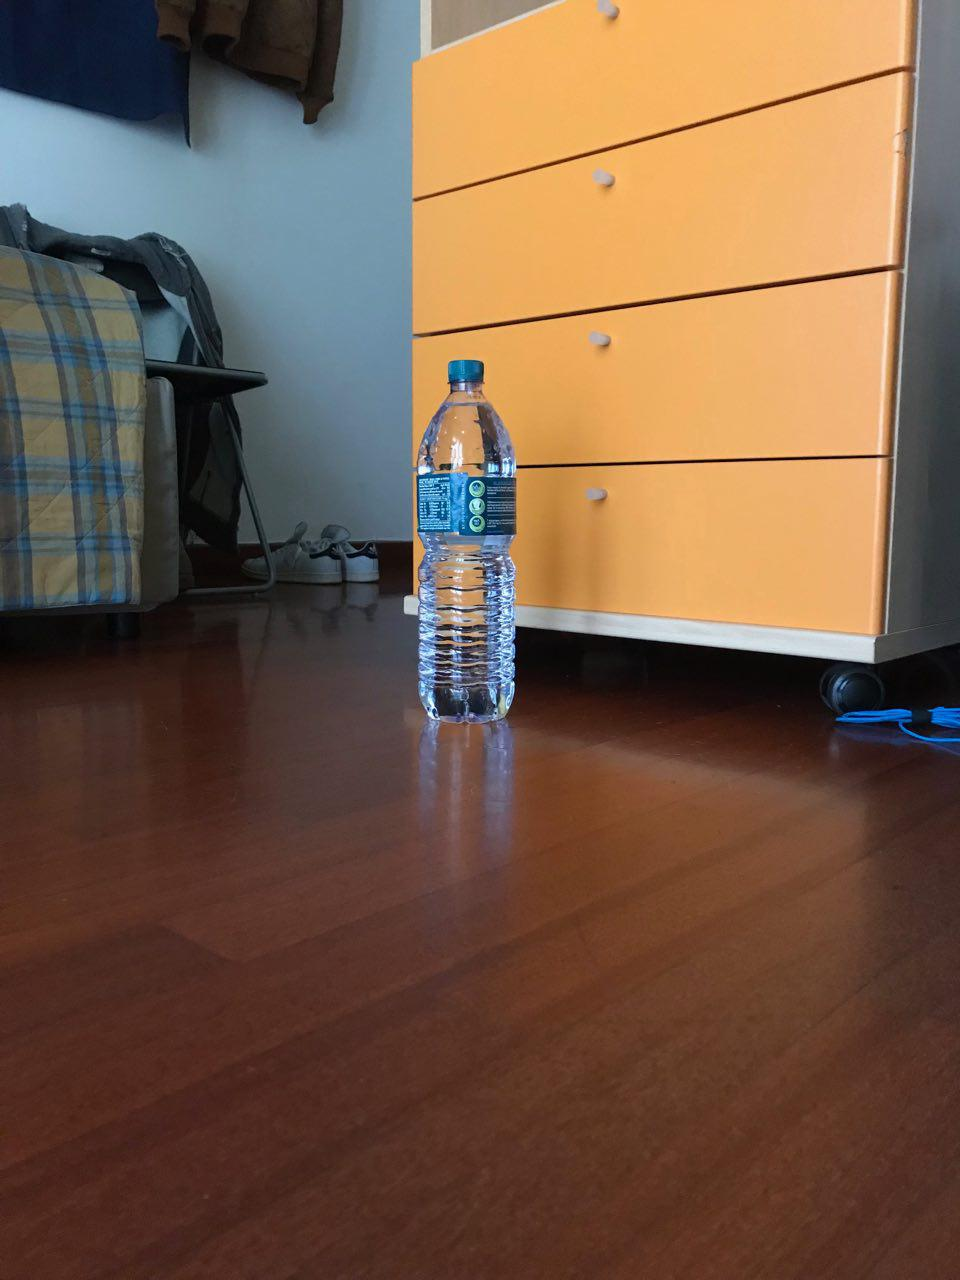san_bernardo: (415, 358, 520, 727)
